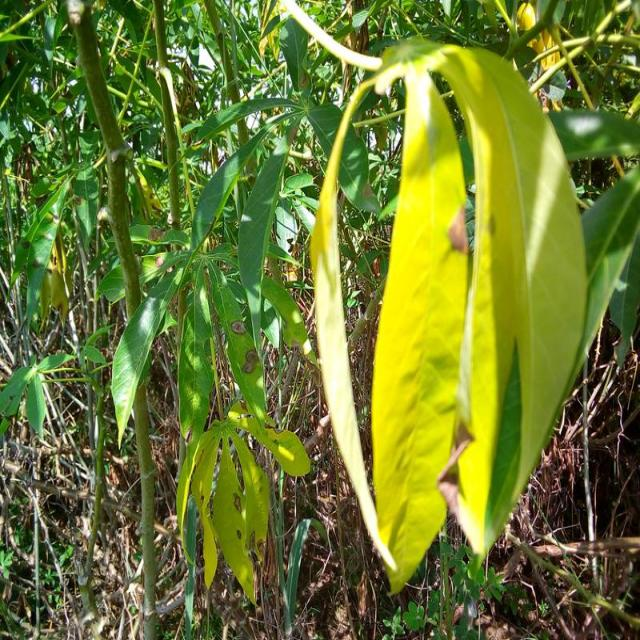cassava leaf: (310, 34, 590, 593)
